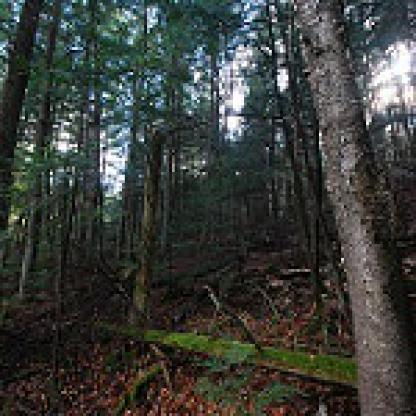trunk: (291, 3, 413, 413), (0, 3, 45, 234), (122, 142, 164, 328), (88, 83, 102, 244), (78, 111, 89, 244)
